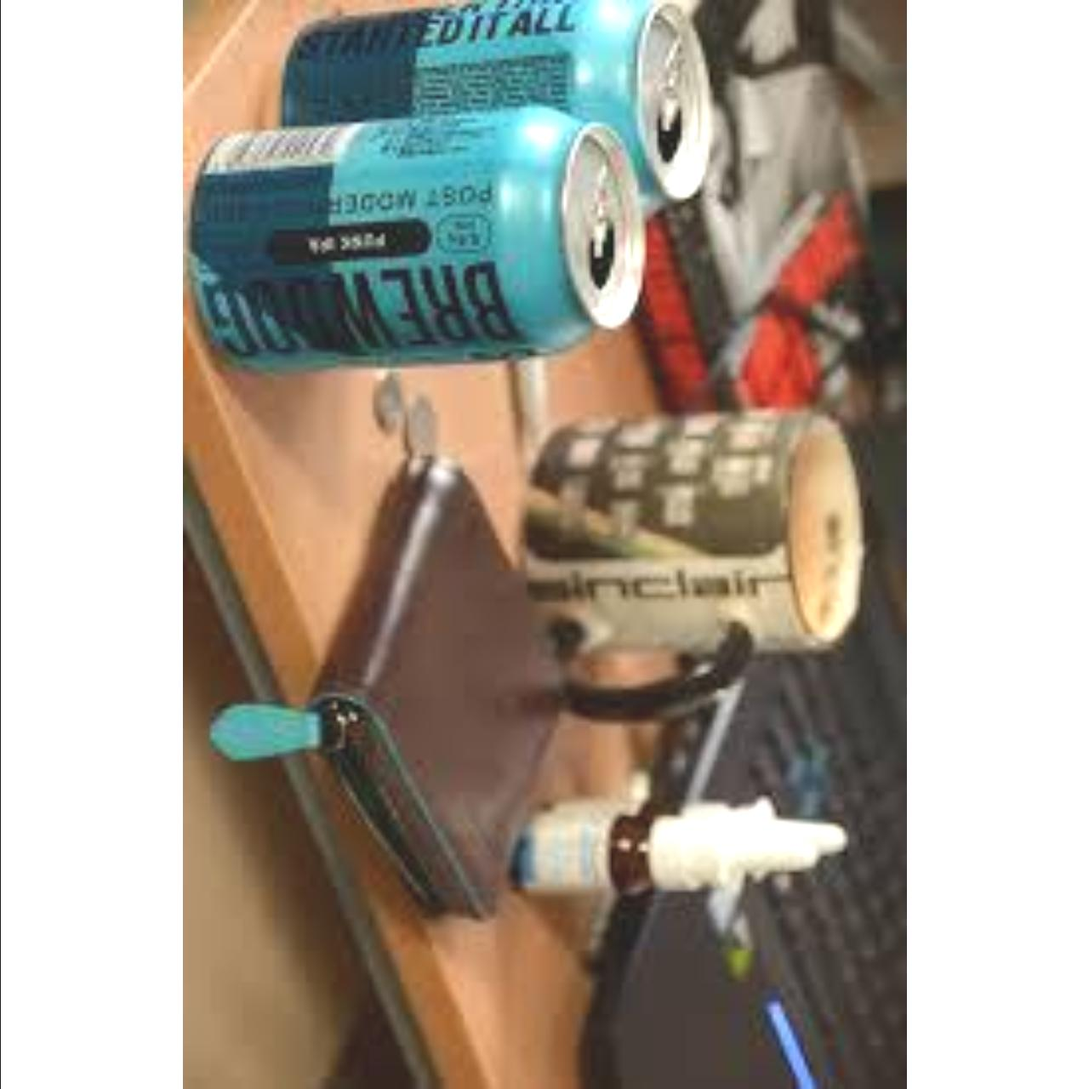wallet: (224, 408, 576, 938)
